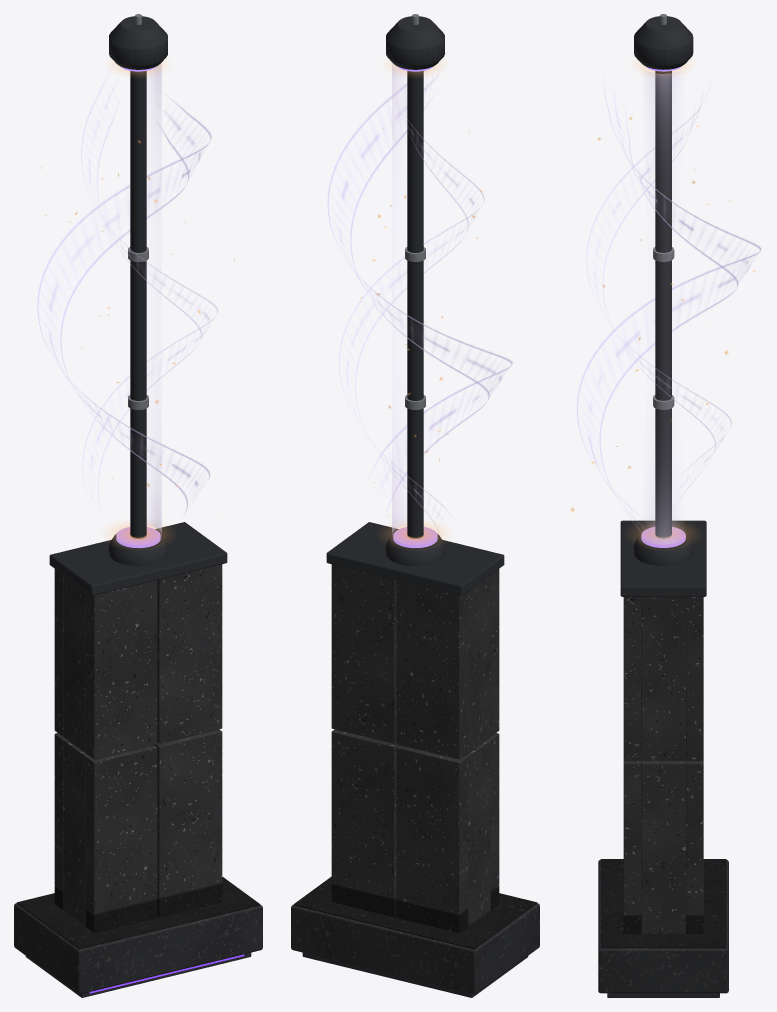
File: holo_pylon.glb
3 views of the same model, side by side, from view 1: azimuth 30°, elevation 25°; view 2: azimuth 150°, elevation 25°; view 3: azimuth 270°, elevation 25° (orthographic).
Visible parts, largest first — view 1: spine_powdercoat_graphite_0, clad_r_stone_granite_6, plinth_stone_basalt_2, clad_r_stone_granite_3, clad_l_stone_granite_6, clad_l_stone_granite_3, spine_powdercoat_graphite_wet_1, plinth_stone_basalt_wet_3, clad_r_stone_granite_4, clad_r_stone_granite_7, holo_holo_ribbon_0, holo_holo_beam_pylon_2 (+8 smaller); view 2: spine_powdercoat_graphite_0, clad_r_stone_granite_5, plinth_stone_basalt_2, clad_r_stone_granite_1, clad_l_stone_granite_5, clad_l_stone_granite_1, spine_powdercoat_graphite_wet_1, plinth_stone_basalt_wet_3, clad_r_stone_granite_4, clad_r_stone_granite_7, holo_holo_ribbon_0, holo_holo_beam_pylon_2 (+8 smaller); view 3: spine_powdercoat_graphite_0, clad_l_stone_granite_4, clad_l_stone_granite_7, plinth_stone_basalt_2, plinth_stone_basalt_wet_3, holo_holo_beam_pylon_2, spine_powdercoat_graphite_wet_1, holo_holo_ribbon_0, clad_l_stone_granite_6, clad_l_stone_granite_3, clad_l_stone_granite_5, clad_l_stone_granite_1 (+5 smaller).
Boxes of the visible parts, left/top/right/bottom form: spine_powdercoat_graphite_0: left=49, top=16, right=227, bottom=595; clad_r_stone_granite_6: left=85, top=580, right=157, bottom=759; plinth_stone_basalt_2: left=14, top=903, right=262, bottom=994; clad_r_stone_granite_3: left=85, top=745, right=157, bottom=914; clad_l_stone_granite_6: left=157, top=564, right=222, bottom=743; clad_l_stone_granite_3: left=154, top=729, right=222, bottom=898; spine_powdercoat_graphite_wet_1: left=50, top=522, right=226, bottom=586; plinth_stone_basalt_wet_3: left=16, top=876, right=260, bottom=949; clad_r_stone_granite_4: left=63, top=739, right=88, bottom=926; clad_r_stone_granite_7: left=63, top=575, right=85, bottom=752; holo_holo_ribbon_0: left=37, top=98, right=211, bottom=514; holo_holo_beam_pylon_2: left=147, top=63, right=161, bottom=535; spine_powdercoat_graphite_0: left=326, top=16, right=504, bottom=595; clad_r_stone_granite_5: left=396, top=580, right=468, bottom=759; plinth_stone_basalt_2: left=291, top=903, right=539, bottom=994; clad_r_stone_granite_1: left=396, top=745, right=468, bottom=914; clad_l_stone_granite_5: left=331, top=564, right=396, bottom=743; clad_l_stone_granite_1: left=331, top=729, right=399, bottom=898; spine_powdercoat_graphite_wet_1: left=327, top=522, right=503, bottom=586; plinth_stone_basalt_wet_3: left=293, top=876, right=537, bottom=949; clad_r_stone_granite_4: left=465, top=739, right=490, bottom=926; clad_r_stone_granite_7: left=468, top=575, right=490, bottom=752; holo_holo_ribbon_0: left=327, top=71, right=512, bottom=514; holo_holo_beam_pylon_2: left=392, top=63, right=406, bottom=535; spine_powdercoat_graphite_0: left=620, top=16, right=706, bottom=596; clad_l_stone_granite_4: left=641, top=760, right=685, bottom=933; clad_l_stone_granite_7: left=641, top=597, right=685, bottom=760; plinth_stone_basalt_2: left=598, top=860, right=728, bottom=993; plinth_stone_basalt_wet_3: left=600, top=859, right=726, bottom=948; holo_holo_beam_pylon_2: left=647, top=71, right=680, bottom=544; spine_powdercoat_graphite_wet_1: left=620, top=520, right=706, bottom=587; holo_holo_ribbon_0: left=576, top=78, right=761, bottom=539; clad_l_stone_granite_6: left=623, top=597, right=641, bottom=760; clad_l_stone_granite_3: left=623, top=760, right=641, bottom=915; clad_l_stone_granite_5: left=686, top=597, right=703, bottom=760; clad_l_stone_granite_1: left=686, top=760, right=703, bottom=915.
Size of what is drawn, in the model's own units: 0.72 by 3.5 by 0.6548.
17 materials, 14 textured.
